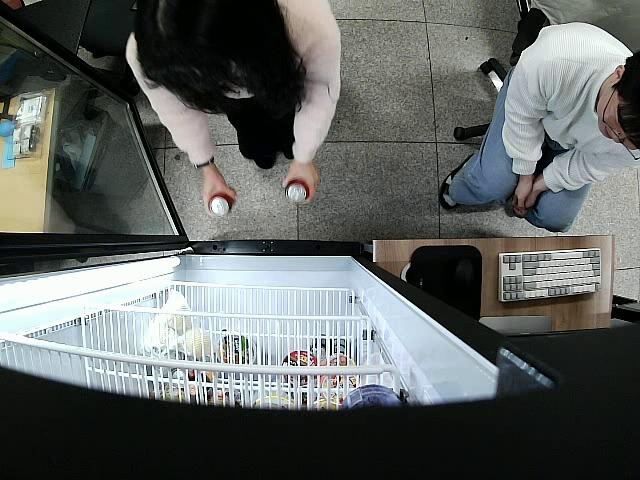00_hand: (199, 174, 237, 221), (283, 167, 323, 209)
11_cocaColaZero: (207, 192, 234, 215), (285, 179, 310, 203)
